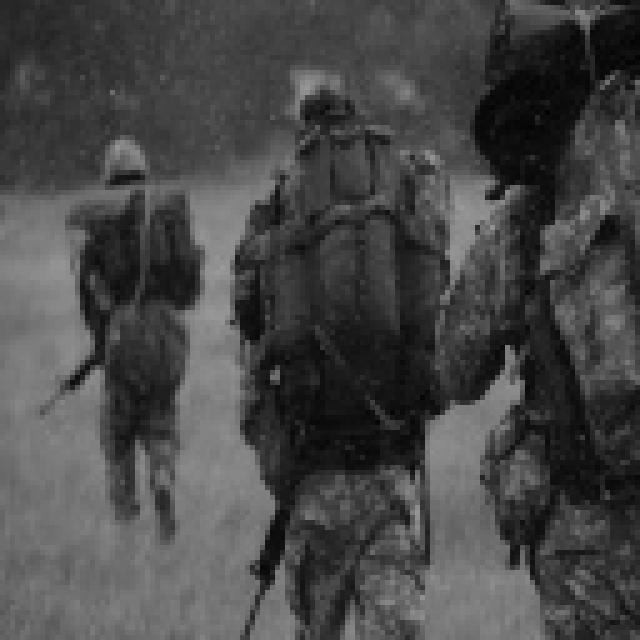Rifle: (262, 0, 520, 196), (204, 495, 320, 625), (35, 334, 109, 436)
